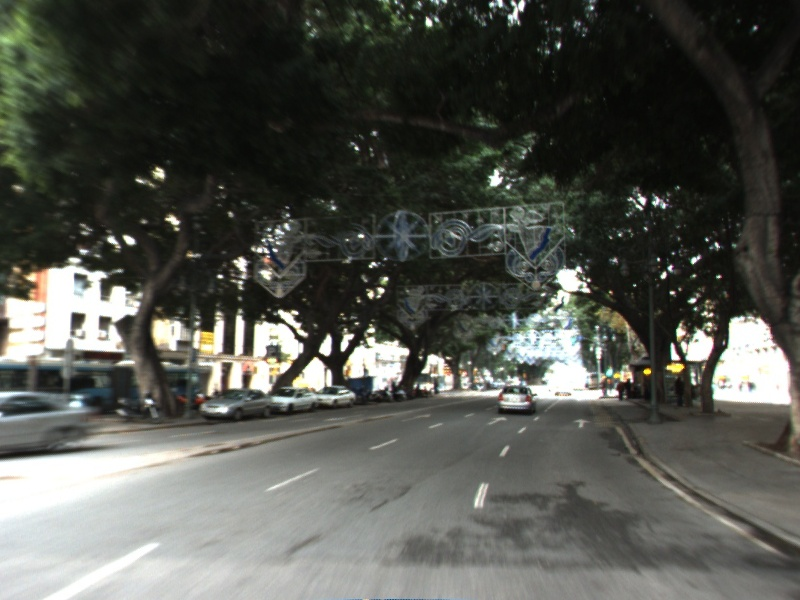STRAIGHT: (485, 415, 509, 427), (571, 417, 593, 429)
